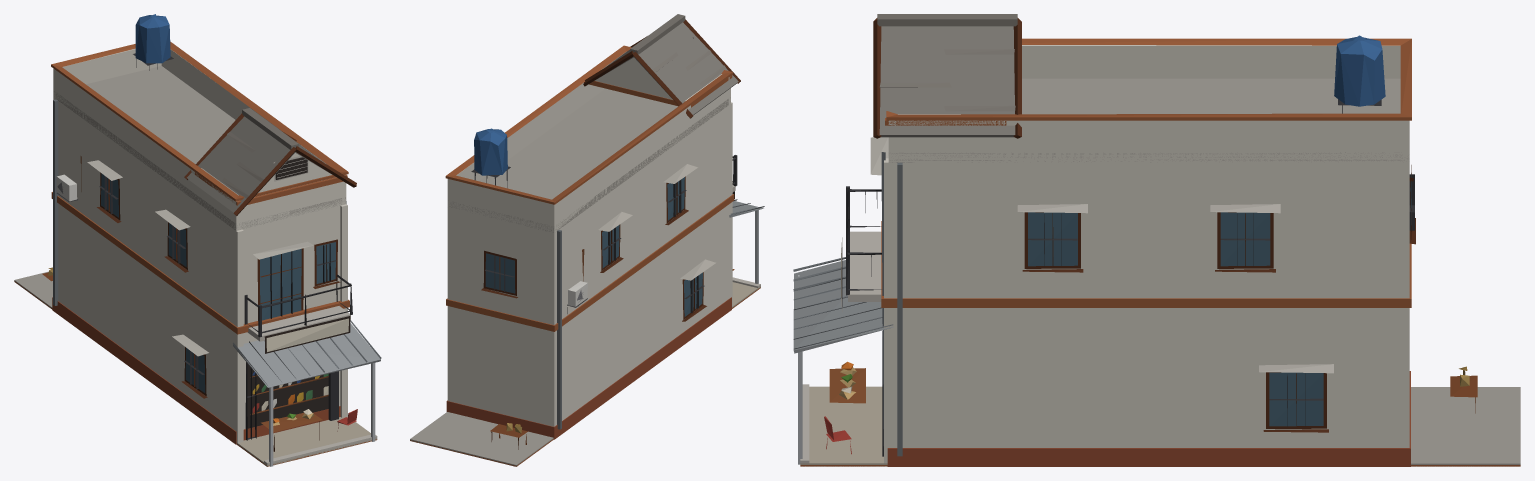
The model's file is bay1_one.glb.
The picture shows the model from 3 angles, left to right: view 1: azimuth 30°, elevation 25°; view 2: azimuth 150°, elevation 25°; view 3: azimuth 270°, elevation 25°; orthographic projection. The views are drawn at different scales.
Parts seen in each view (by area): view 1: body, windows; view 2: body, windows; view 3: body, windows.
Boxes of the visible parts, x1=… form: body: x1=14, y1=14, x2=381, y2=466; windows: x1=101, y1=157, x2=335, y2=428; body: x1=410, y1=14, x2=764, y2=466; windows: x1=485, y1=177, x2=702, y2=316; body: x1=793, y1=14, x2=1520, y2=466; windows: x1=1028, y1=175, x2=1411, y2=426.
Size of the model in its own units: 4.84 by 10.03 by 16.06.
